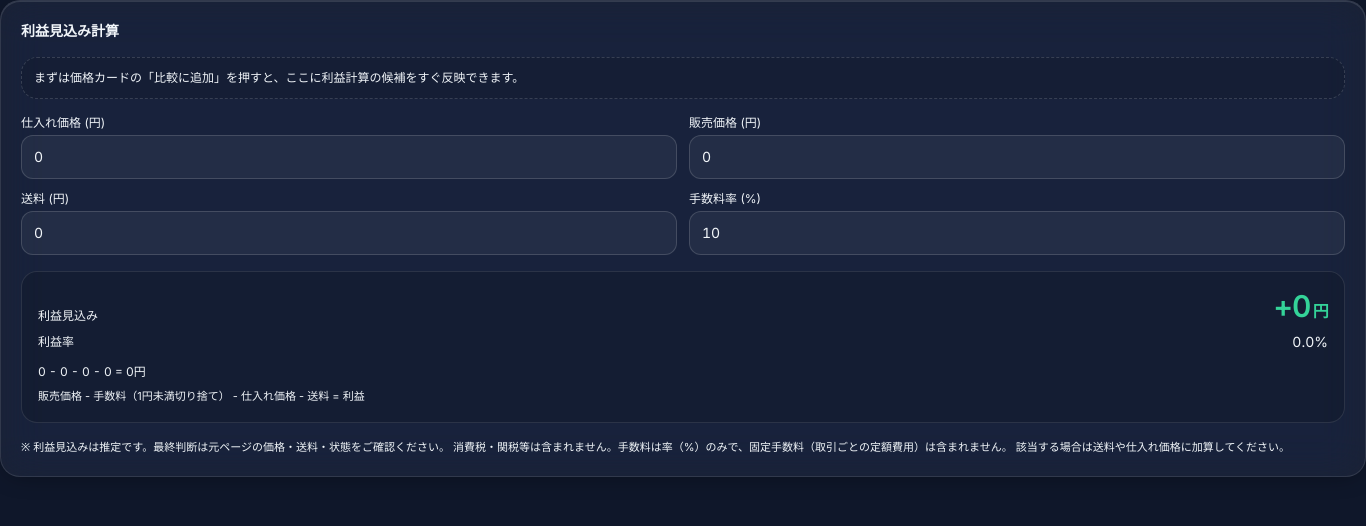
Test: ProfitPanel › computes and displays the estimated profit
Type "6000" into the field labelled "仕入れ価格 (円)" at coordinates (349, 157), box [21,135,677,179]
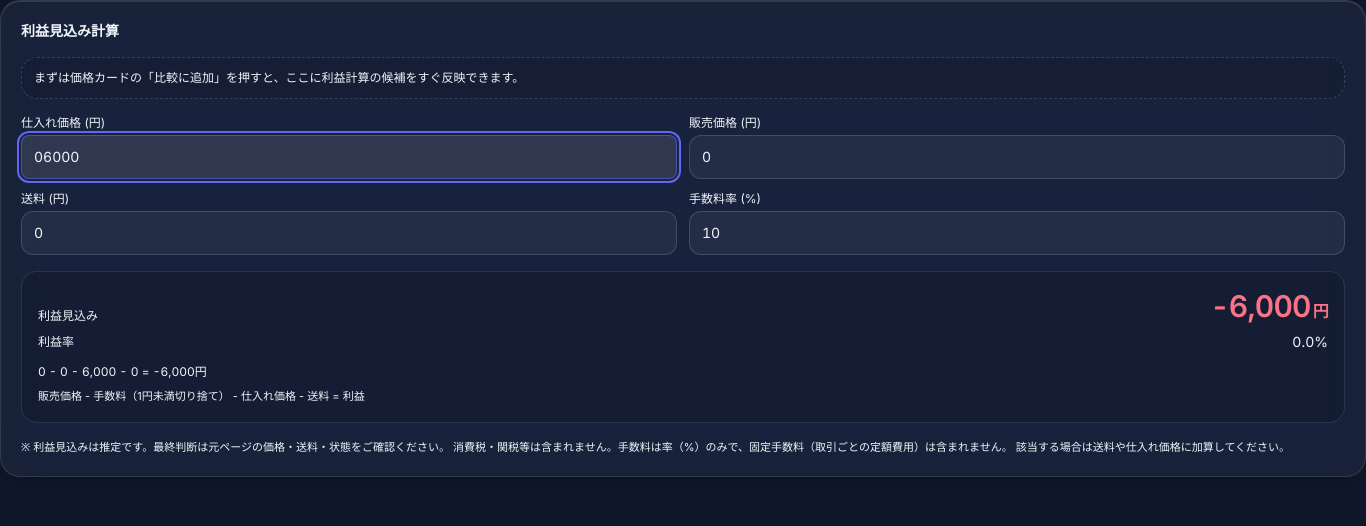
Type "10000" into the field labelled "販売価格 (円)" at coordinates (1017, 157), box [689,135,1345,179]
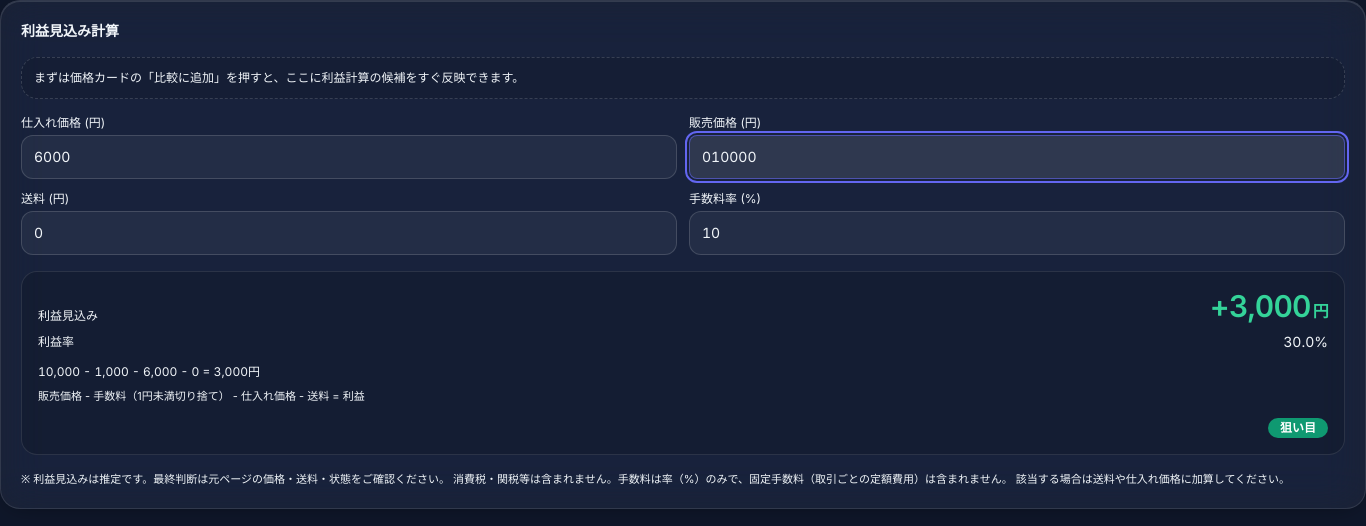
Type "500" into the field labelled "送料 (円)" at coordinates (349, 233), box [21,211,677,255]
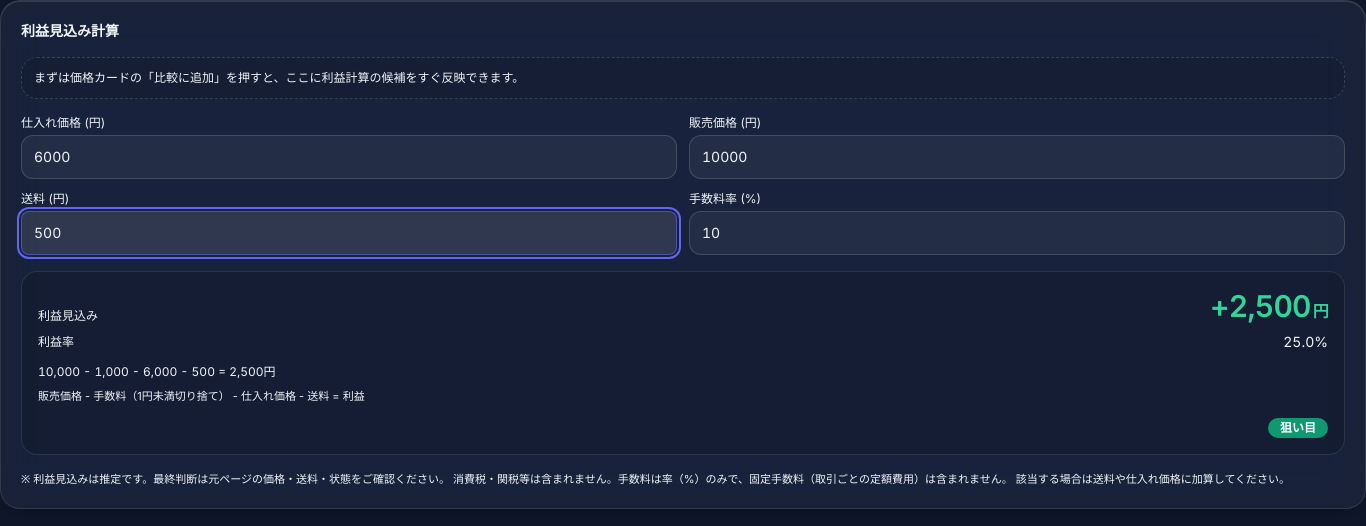
Result: the text "+2,500円" is shown at [1210,288,1328,324]
